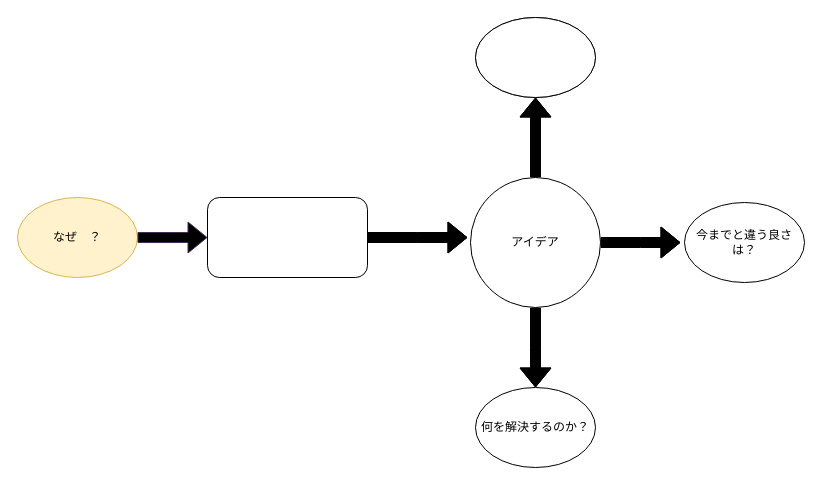
Image size: 822x485. Some labels were removed from this diagram. The centre of each missing label's shape, as x and y in pixels:
問題解決のための手段: point (287, 237)
誰に対して？ どんなメリット？: point (535, 57)
